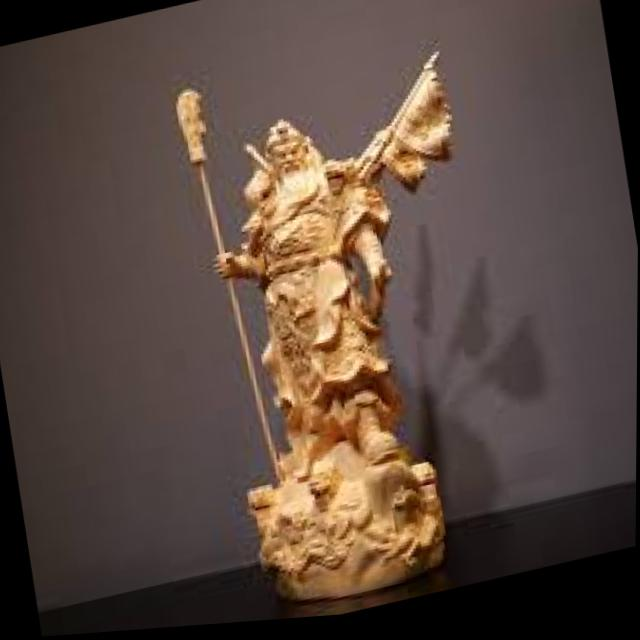Guan Yu: (197, 98, 426, 503)
